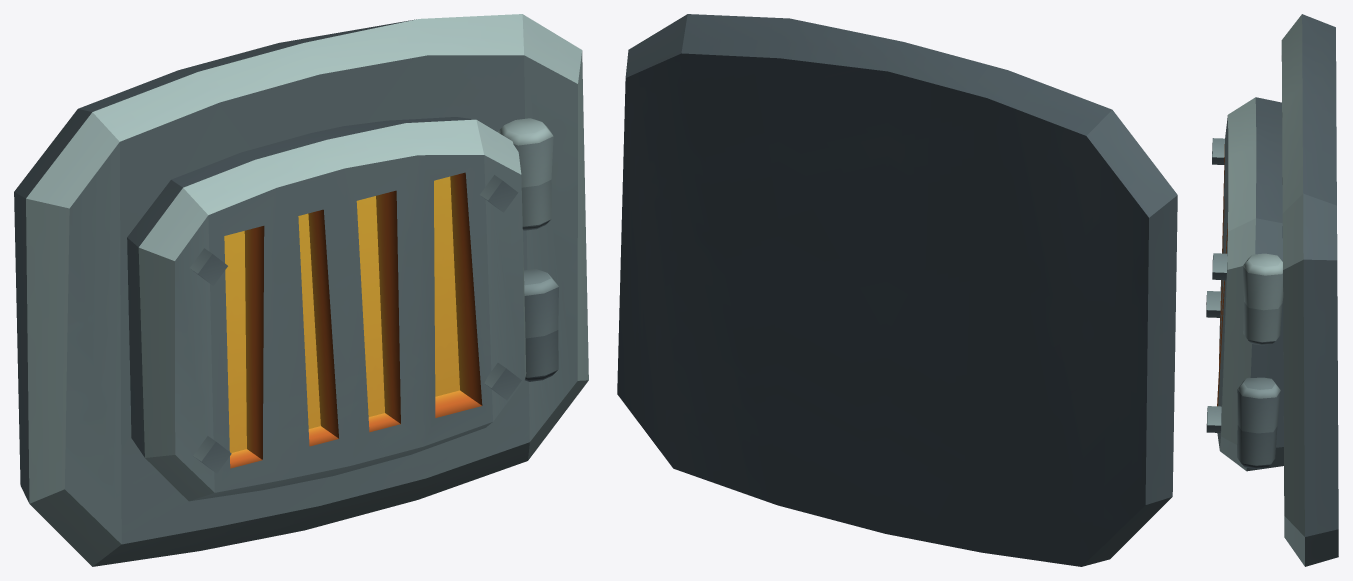
File: oven_door.fbx
3 views of the same model, side by side, from view 1: azimuth 30°, elevation 25°; view 2: azimuth 150°, elevation 25°; view 3: azimuth 270°, elevation 25° (orthographic). The views are drawn at different scales.
Visible parts, largest first — view 1: oven_door; view 2: oven_door; view 3: oven_door.
Boxes of the visible parts, left/top/right/bottom form: oven_door: left=14, top=14, right=588, bottom=566; oven_door: left=617, top=14, right=1177, bottom=566; oven_door: left=1206, top=14, right=1338, bottom=566.
Bounding box in the file's own units: 252 × 208 × 62.13.
